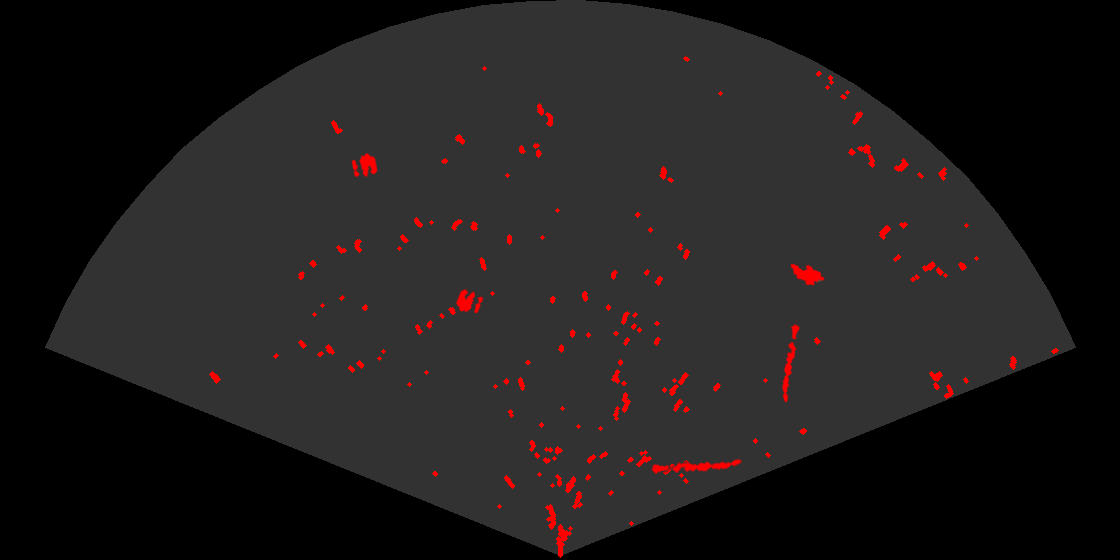AUV: (789, 262, 826, 287)
ball: (454, 287, 485, 315), (350, 152, 379, 179)
chain: (651, 457, 743, 476), (780, 320, 801, 403)
